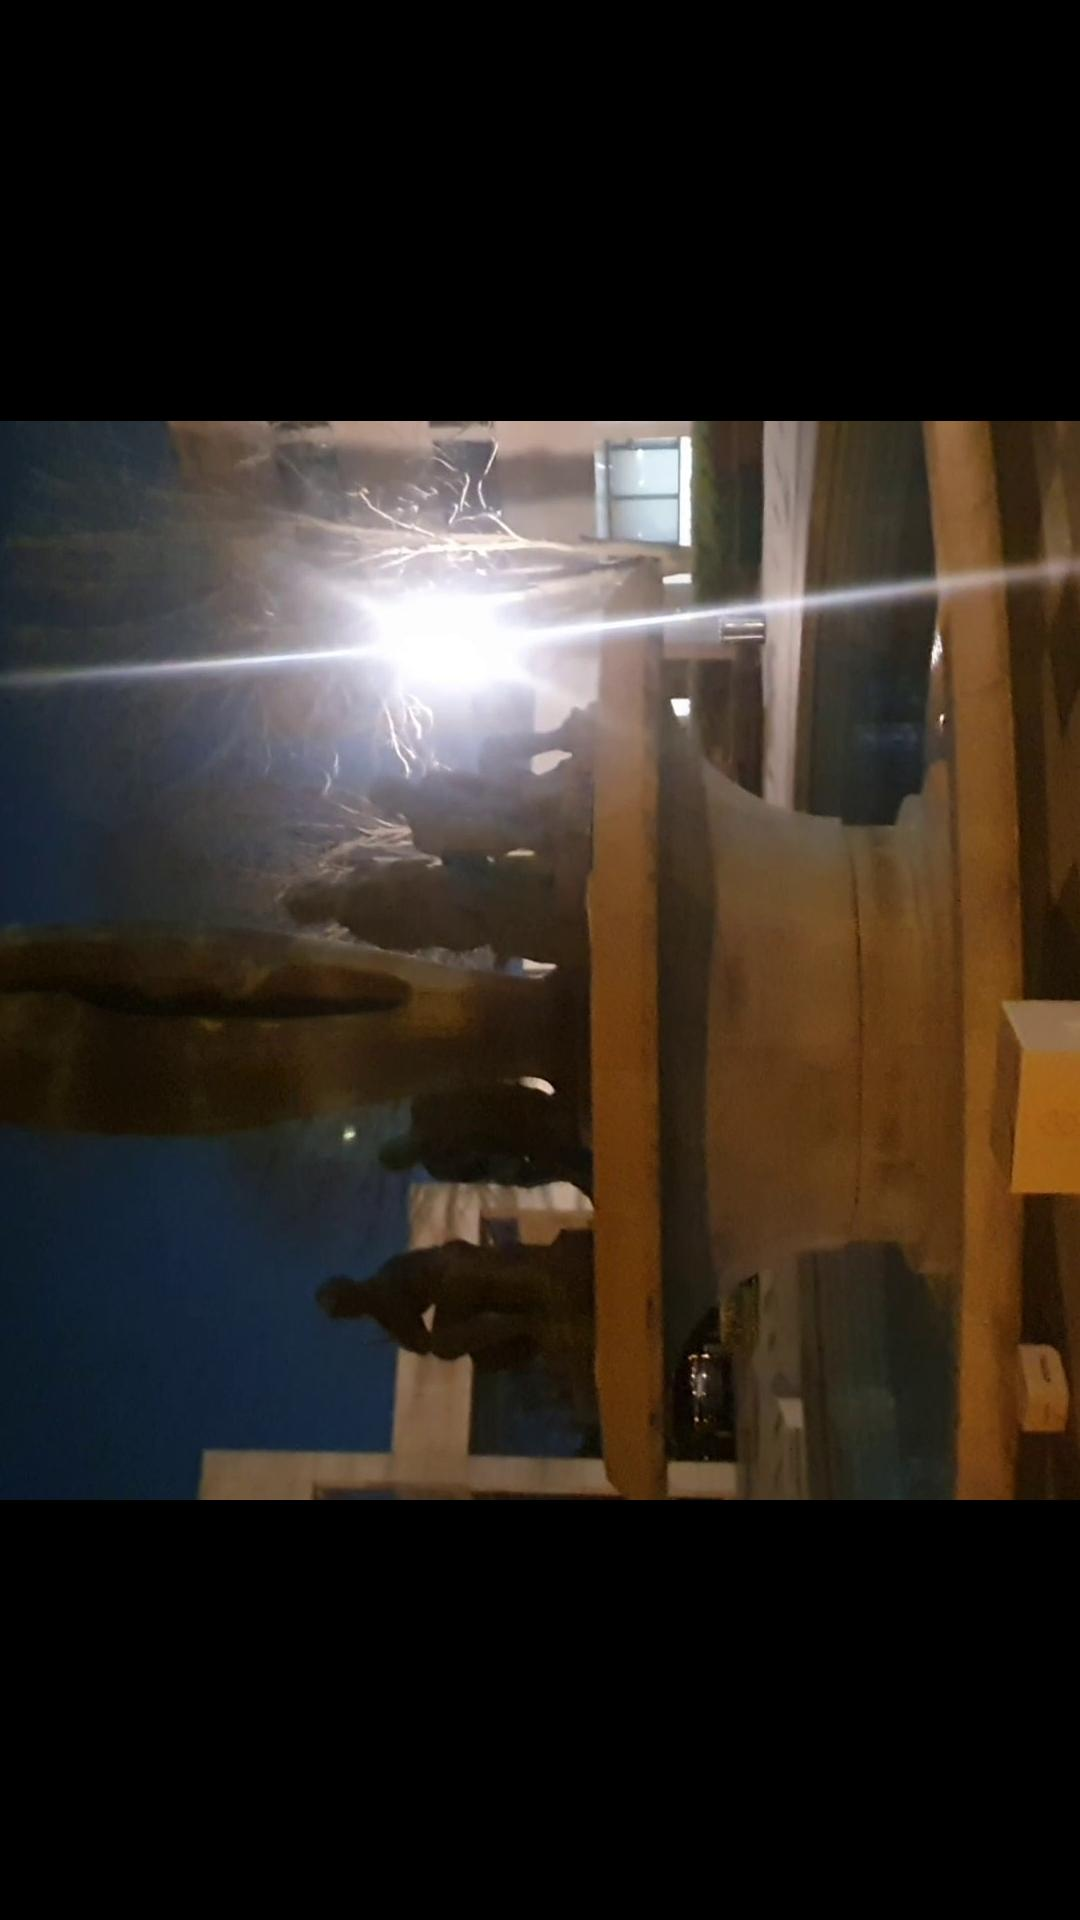Box: (980, 1002, 1080, 1209), (998, 1325, 1080, 1437)
